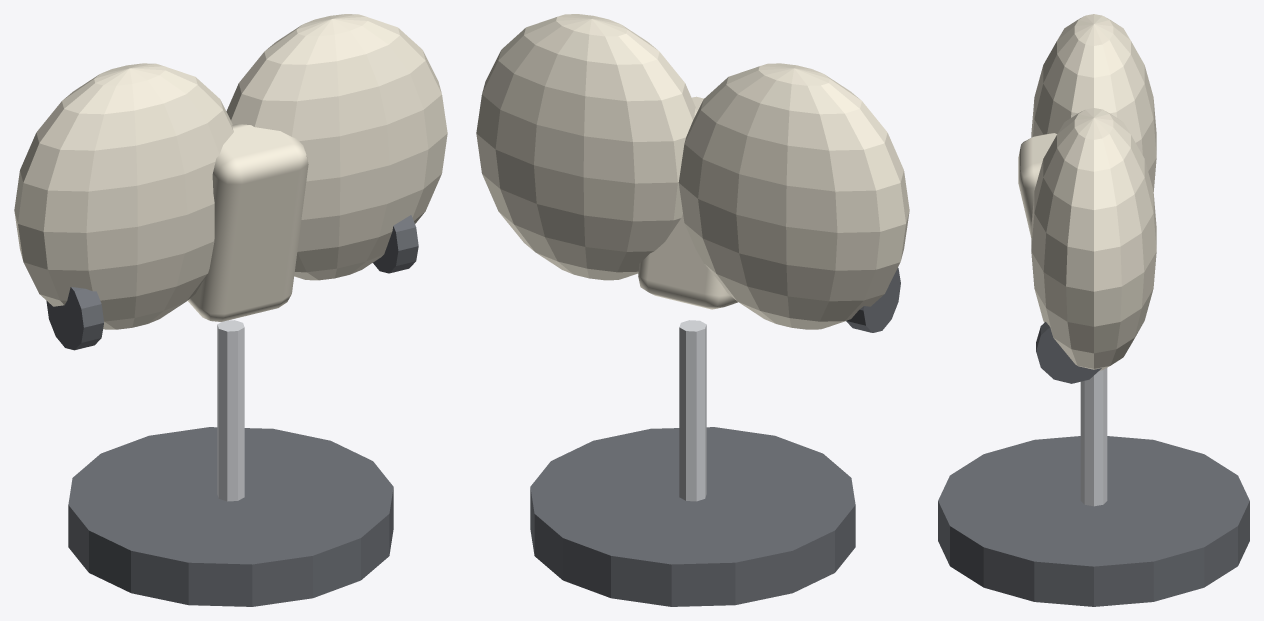
The model's file is human-anatomy-and-education-kit-pelvis-9560fc48__38940.glb.
3 views of the same model, side by side, from view 1: azimuth 30°, elevation 25°; view 2: azimuth 150°, elevation 25°; view 3: azimuth 270°, elevation 25° (orthographic). The views are drawn at different scales.
Parts seen in each view (by area): view 1: pelvis; view 2: pelvis; view 3: pelvis.
Part boxes in pixels (x1,y1,x2,y2): pelvis: (14, 14, 447, 606); pelvis: (476, 14, 909, 606); pelvis: (938, 14, 1249, 606).
Bounding box in the file's own units: 0.42 × 0.4658 × 0.28.
